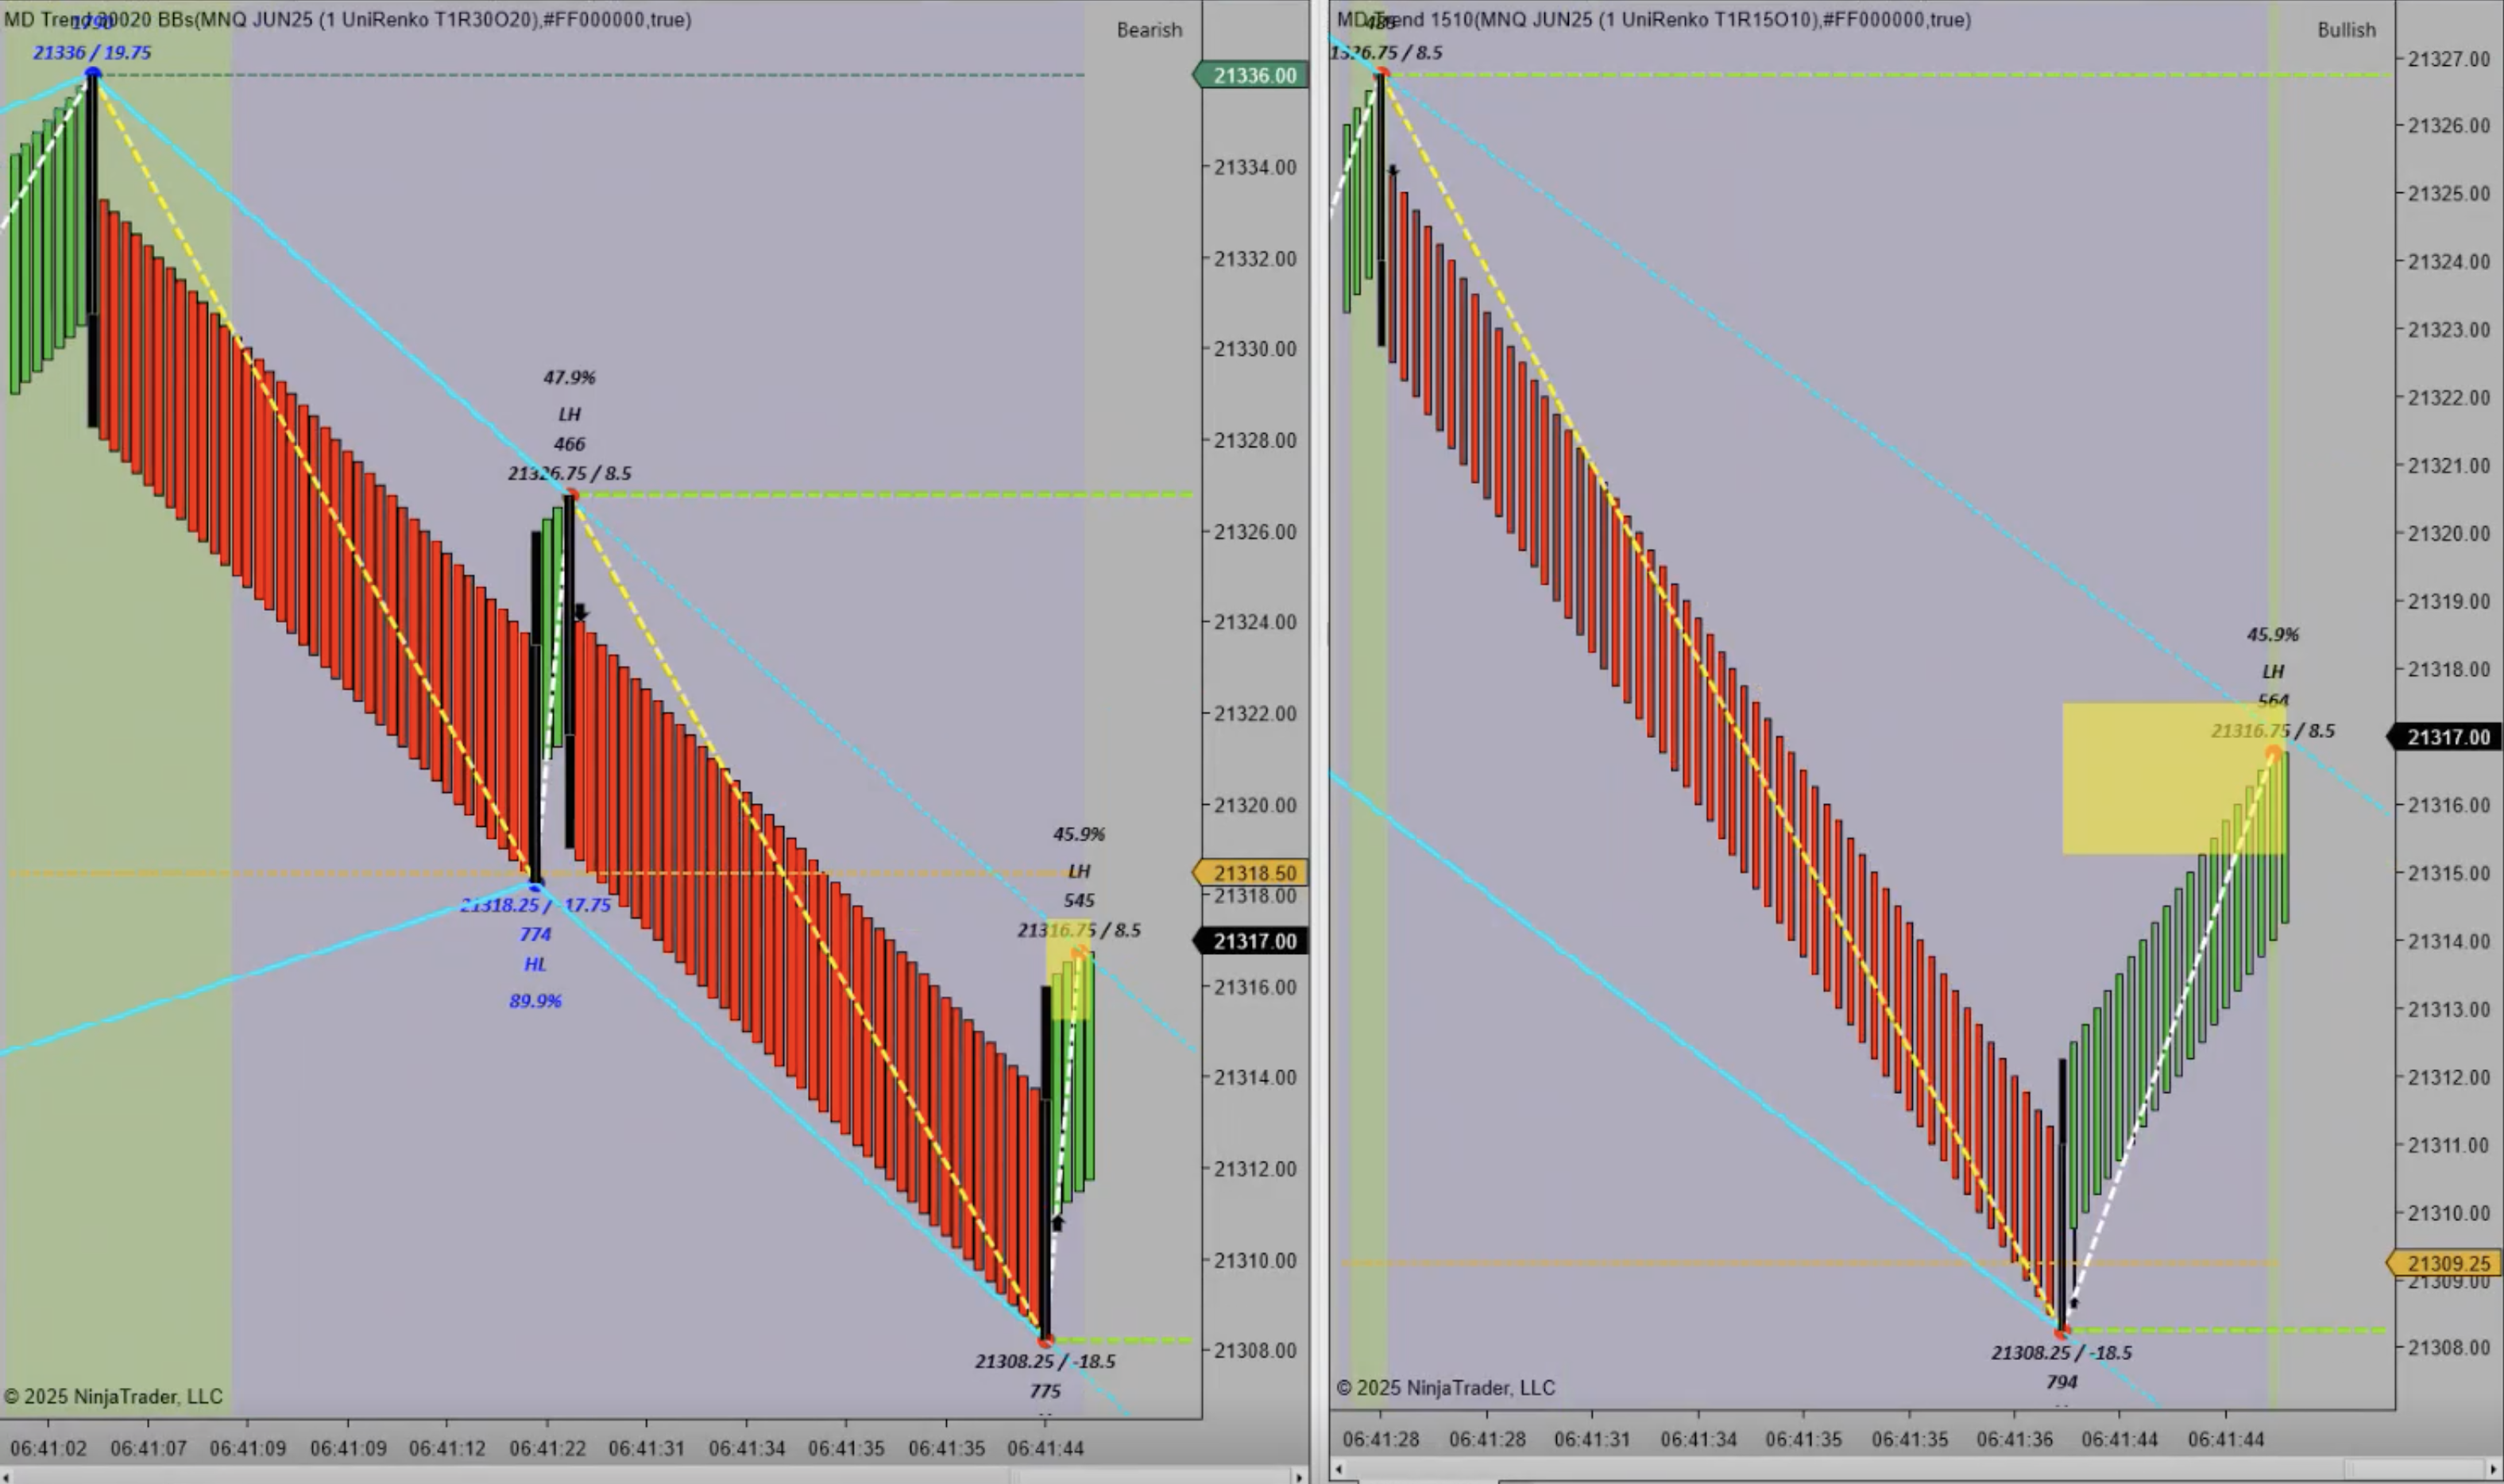candle: (1037, 982, 1061, 1339), (81, 69, 102, 436), (560, 495, 581, 853), (1370, 71, 1397, 355), (526, 526, 539, 883), (2054, 1058, 2068, 1327)
